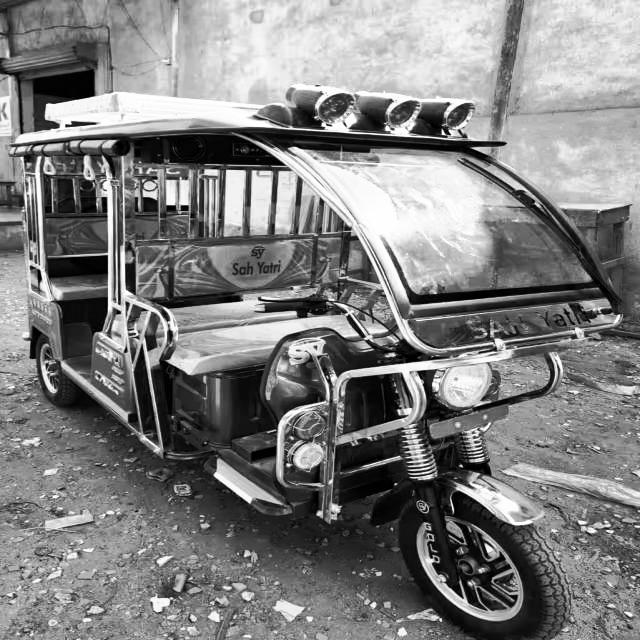Toto: (10, 106, 602, 640)
